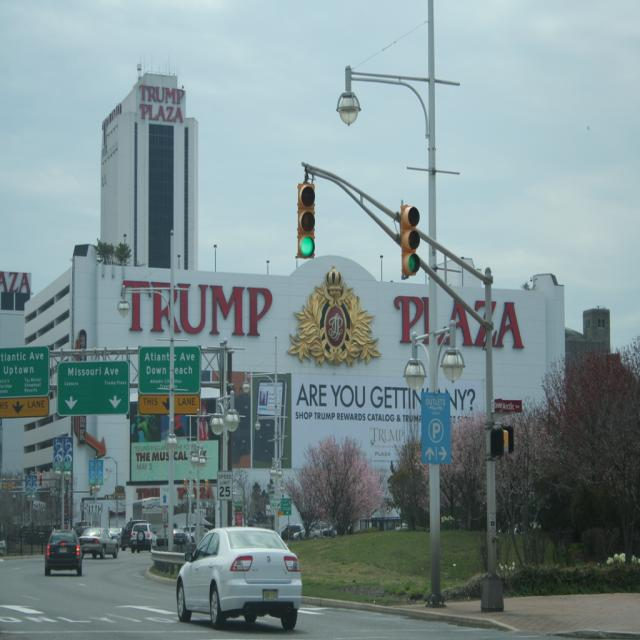car: (166, 527, 296, 628)
